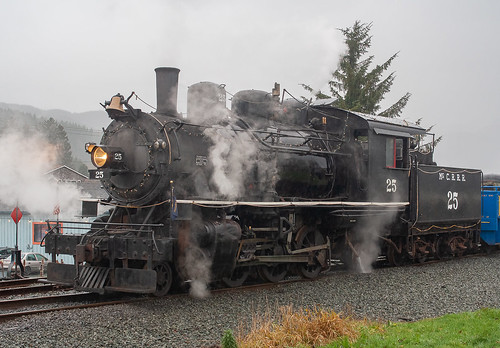sky: (9, 1, 500, 101)
train: (50, 65, 483, 310)
train track: (1, 270, 115, 334)
tree: (298, 24, 411, 120)
